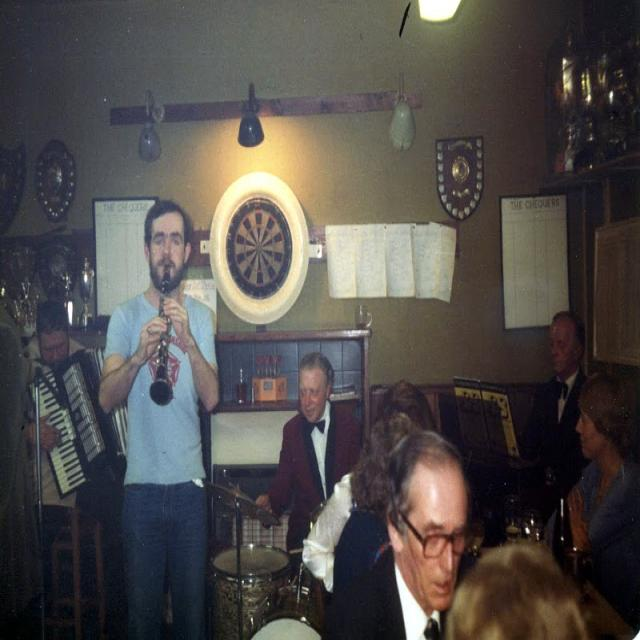clarinet: (150, 265, 178, 409)
drums: (202, 478, 344, 640)
